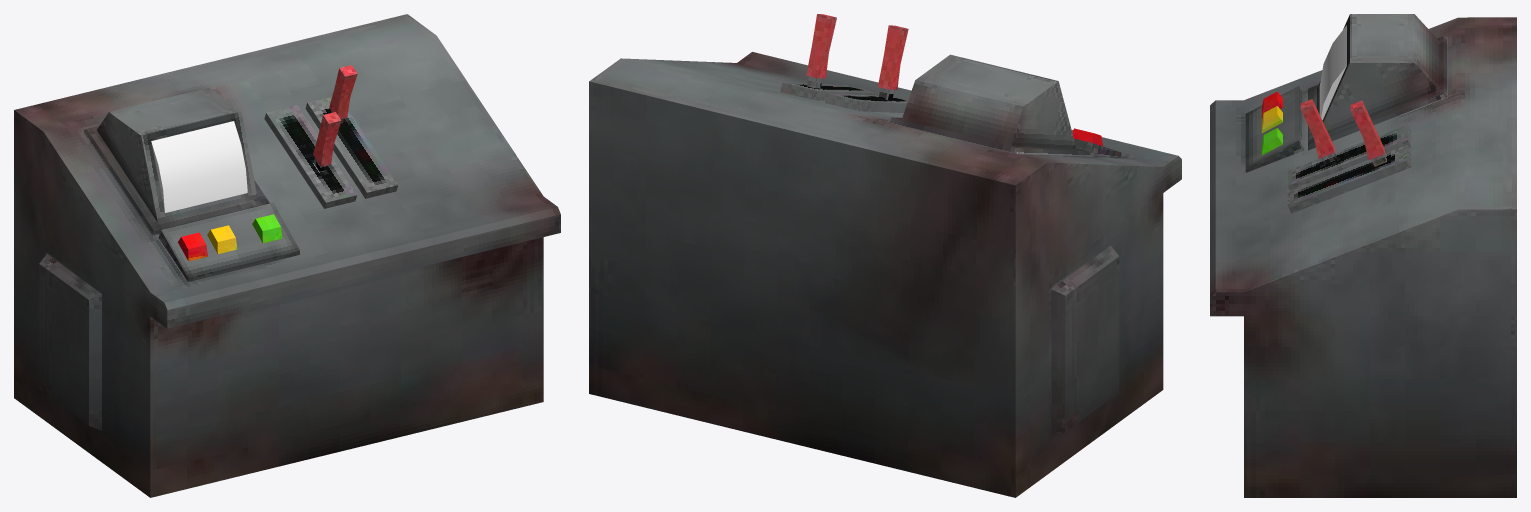
Rendered from ComputerConsole.glb.
The picture shows the model from 3 angles, left to right: view 1: azimuth 30°, elevation 25°; view 2: azimuth 150°, elevation 25°; view 3: azimuth 270°, elevation 25°; orthographic projection. The views are drawn at different scales.
Visible parts, largest first — view 1: ComputerConsole; view 2: ComputerConsole; view 3: ComputerConsole.
Boxes of the visible parts, x1,y1,x2,y2 form: ComputerConsole: [14, 14, 560, 497]; ComputerConsole: [589, 14, 1181, 497]; ComputerConsole: [1210, 14, 1516, 497].
Size of what is drawn, in the model's own units: 2.05 by 1.59 by 1.35.
2 materials, 1 textured.
